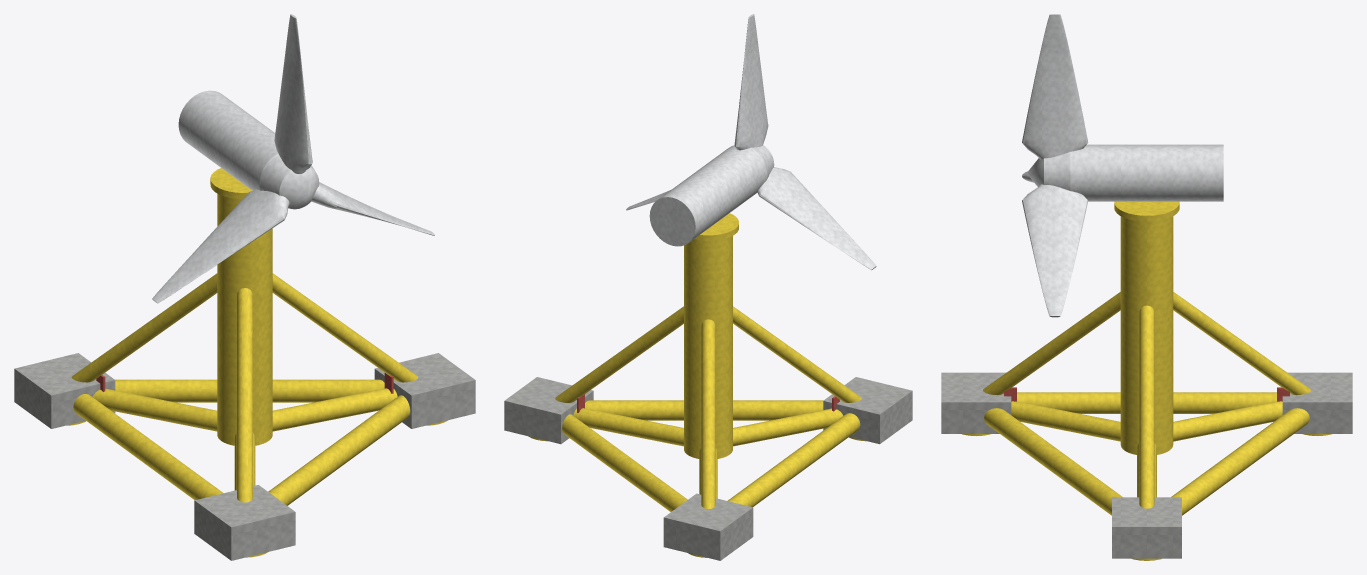
Rendered from tidal-turbine-support-structures.glb.
3 renders of one model, left to right at view 1: azimuth 30°, elevation 25°; view 2: azimuth 150°, elevation 25°; view 3: azimuth 270°, elevation 25°, orthographic. The views are drawn at different scales.
Visible parts, largest first — view 1: SeabedFrame, TidalTurbine(context), BallastBlocks(context), TurbineColumn; view 2: SeabedFrame, TidalTurbine(context), BallastBlocks(context), TurbineColumn; view 3: SeabedFrame, TidalTurbine(context), TurbineColumn, BallastBlocks(context).
Part boxes in pixels (x1,y1,x2,y2): SeabedFrame: (66, 273, 447, 557); TidalTurbine(context): (152, 14, 434, 303); BallastBlocks(context): (14, 353, 475, 560); TurbineColumn: (210, 168, 272, 445); SeabedFrame: (528, 306, 866, 557); TidalTurbine(context): (626, 14, 876, 270); BallastBlocks(context): (504, 377, 912, 560); TurbineColumn: (684, 213, 738, 458); SeabedFrame: (962, 292, 1331, 560); TidalTurbine(context): (1022, 14, 1223, 317); TurbineColumn: (1114, 201, 1179, 454); BallastBlocks(context): (941, 372, 1352, 558).
Size of the model in its own units: 17.56 by 22.8 by 18.79.
Materials: 4 (4 with a texture image).
